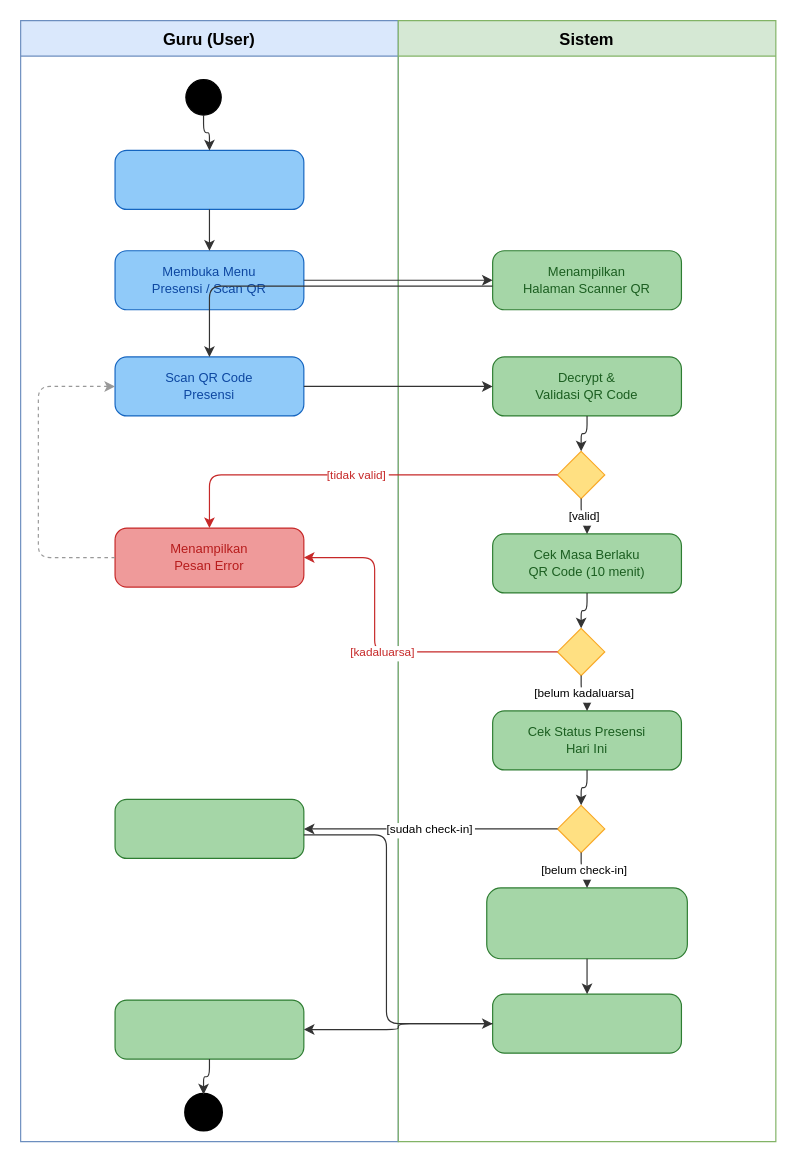
Image size: 796x1162. Some labels were removed from this diagram. Each missing label, with the centre of its shape:
Login ke Sistem: point 209,179
Menampilkan Pesan Sukses: point 209,1029
Proses Check-In (Tentukan Status: Tepat Waktu/Terlambat): point 586,923
Proses Check-Out: point 209,828
Simpan Data Presensi ke Database: point 586,1023
